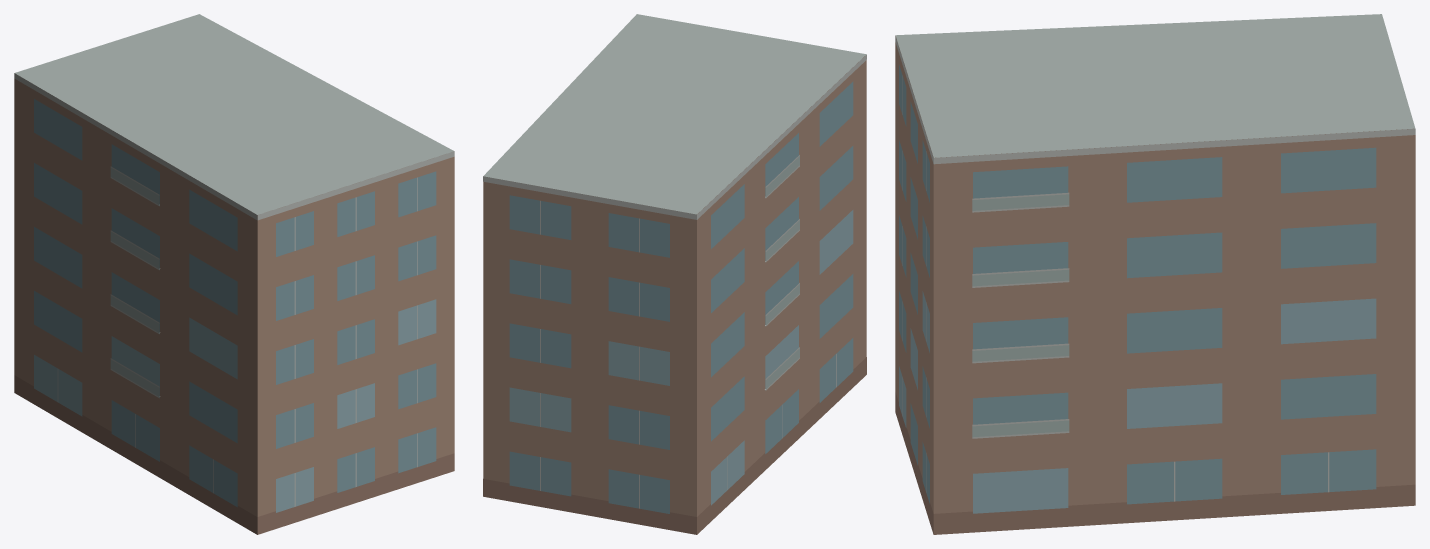
File: survey-upis-32575244.glb
3 renders of one model, left to right at view 1: azimuth 30°, elevation 25°; view 2: azimuth 150°, elevation 25°; view 3: azimuth 270°, elevation 25°, orthographic. The views are drawn at different scales.
Visible parts, largest first — view 1: survey-upis-32575244.tmp; view 2: survey-upis-32575244.tmp; view 3: survey-upis-32575244.tmp.
Boxes of the visible parts, x1,y1,x2,y2 form: survey-upis-32575244.tmp: (14,14,454,534); survey-upis-32575244.tmp: (483,14,866,534); survey-upis-32575244.tmp: (895,14,1415,534).
Bounding box in the file's own units: 11.79 × 14.4 × 18.01.
